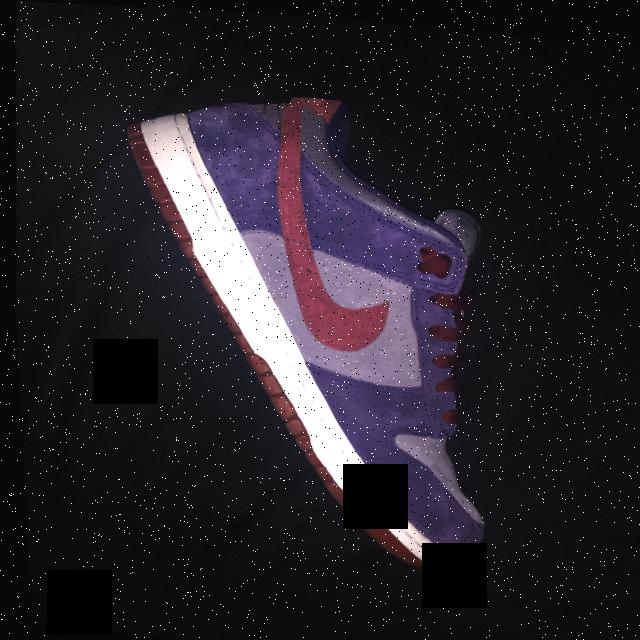shoe: (96, 76, 511, 581)
